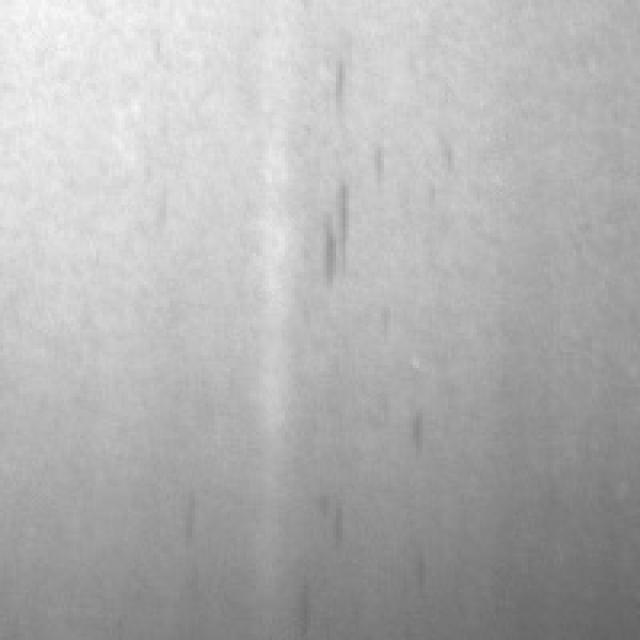inclusion: (307, 170, 362, 284)
